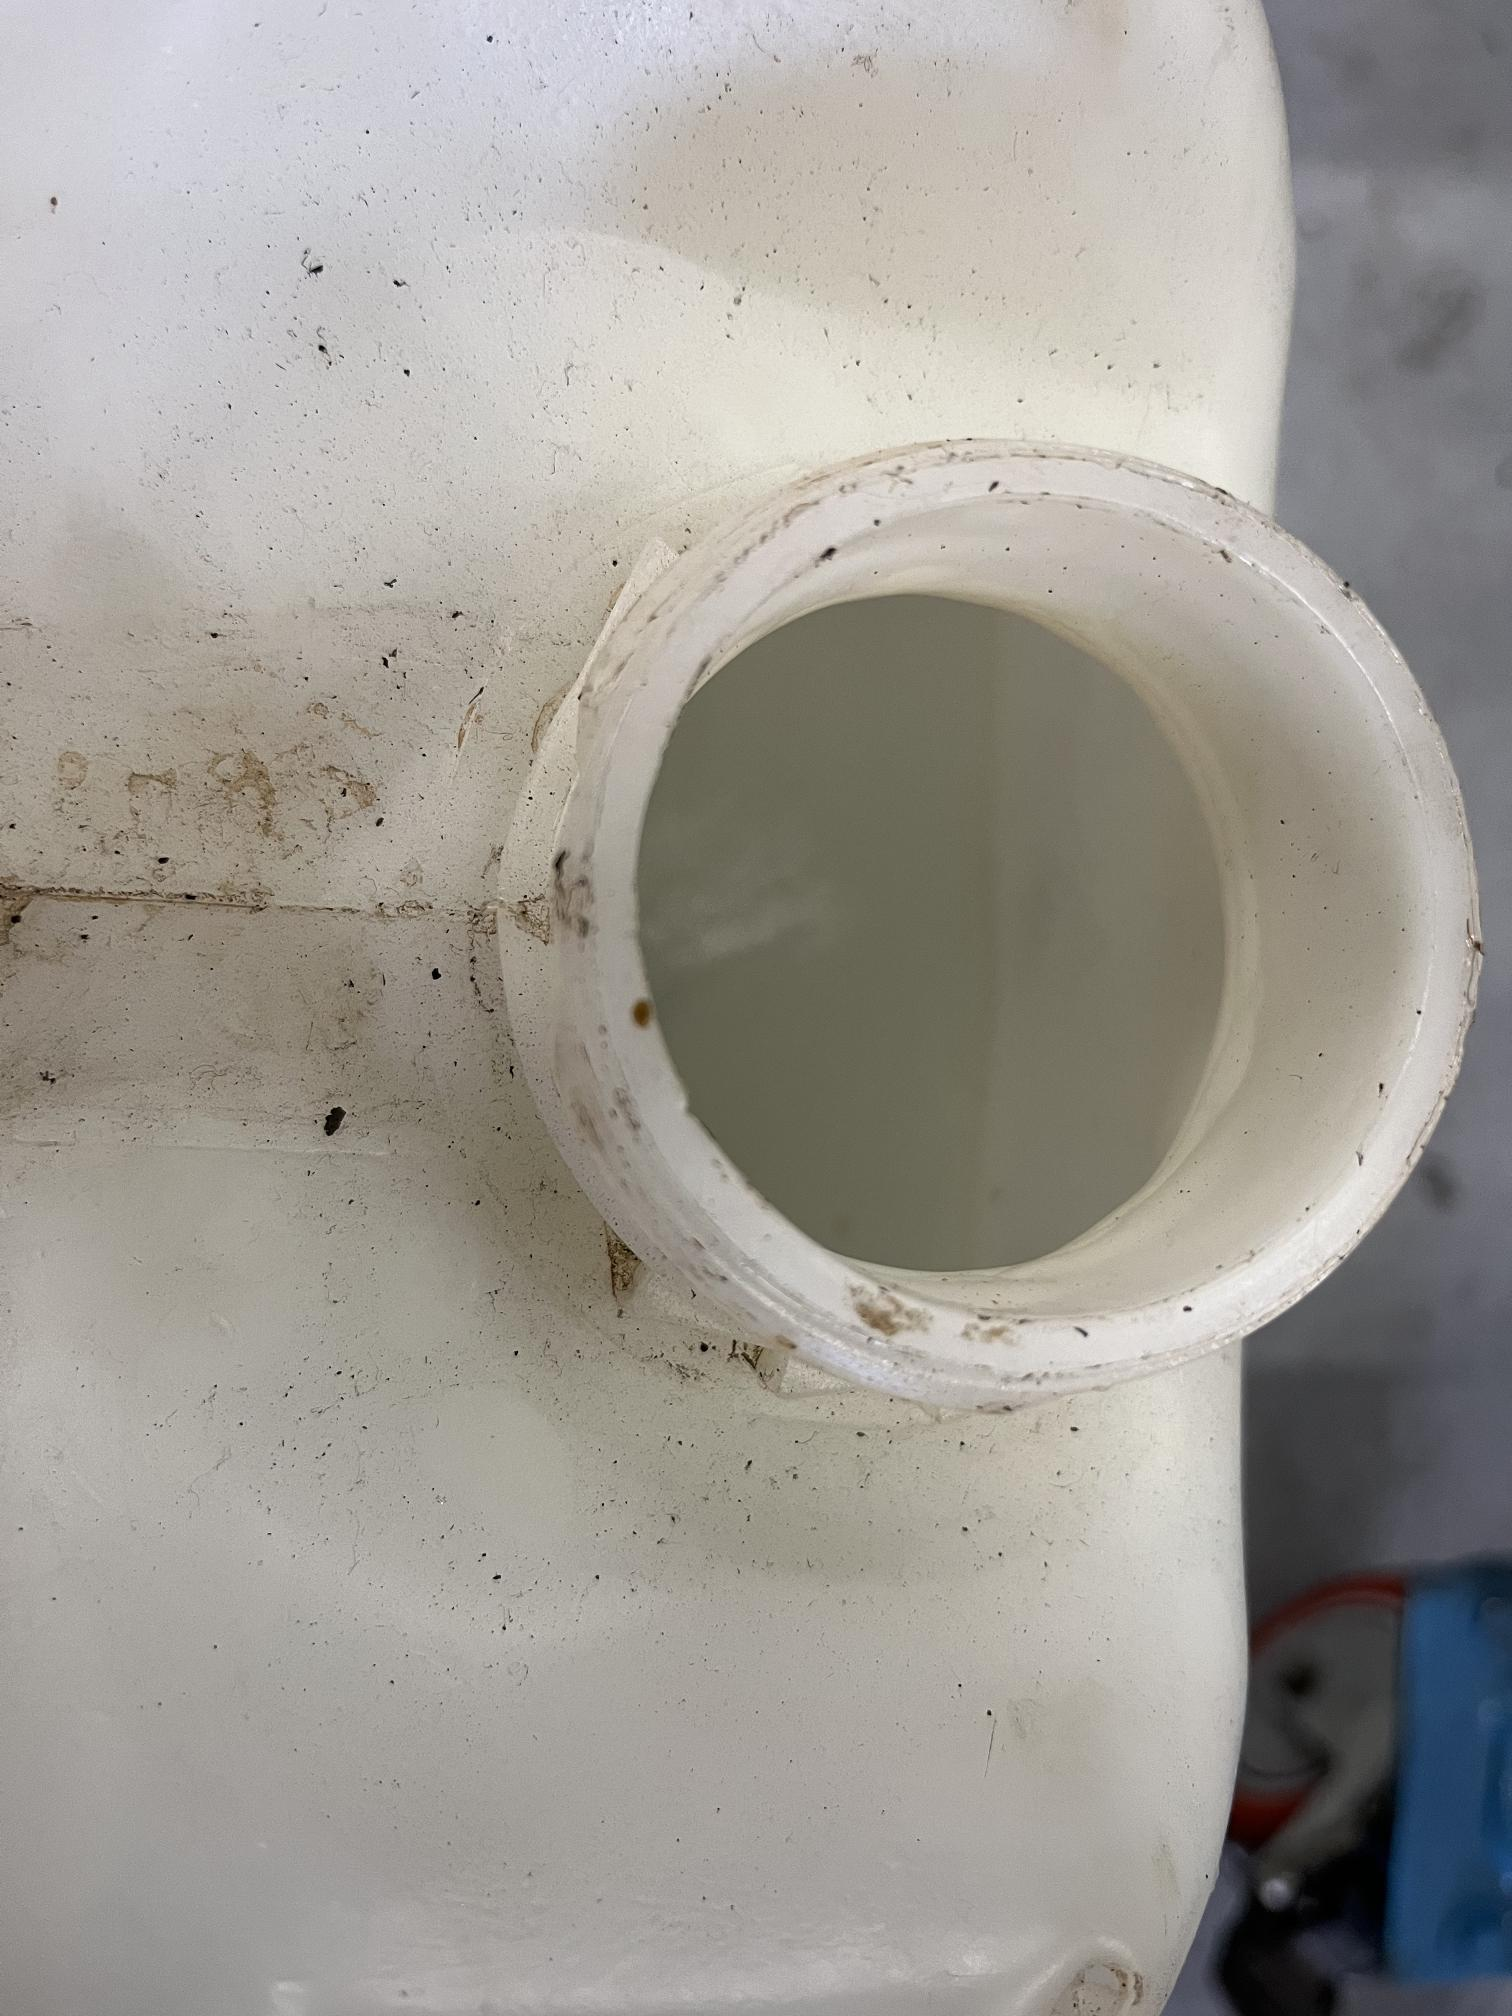Borda de Oleo - - 20ml: (580, 449, 1385, 1375)
